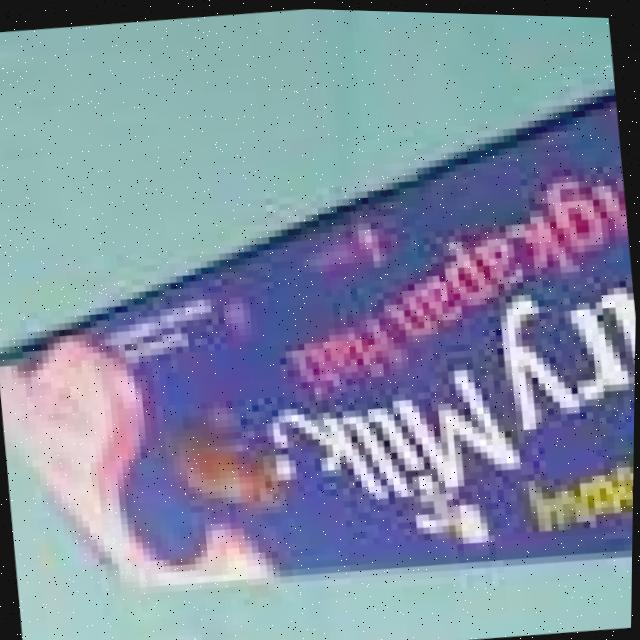cadbury: (0, 133, 638, 616)
